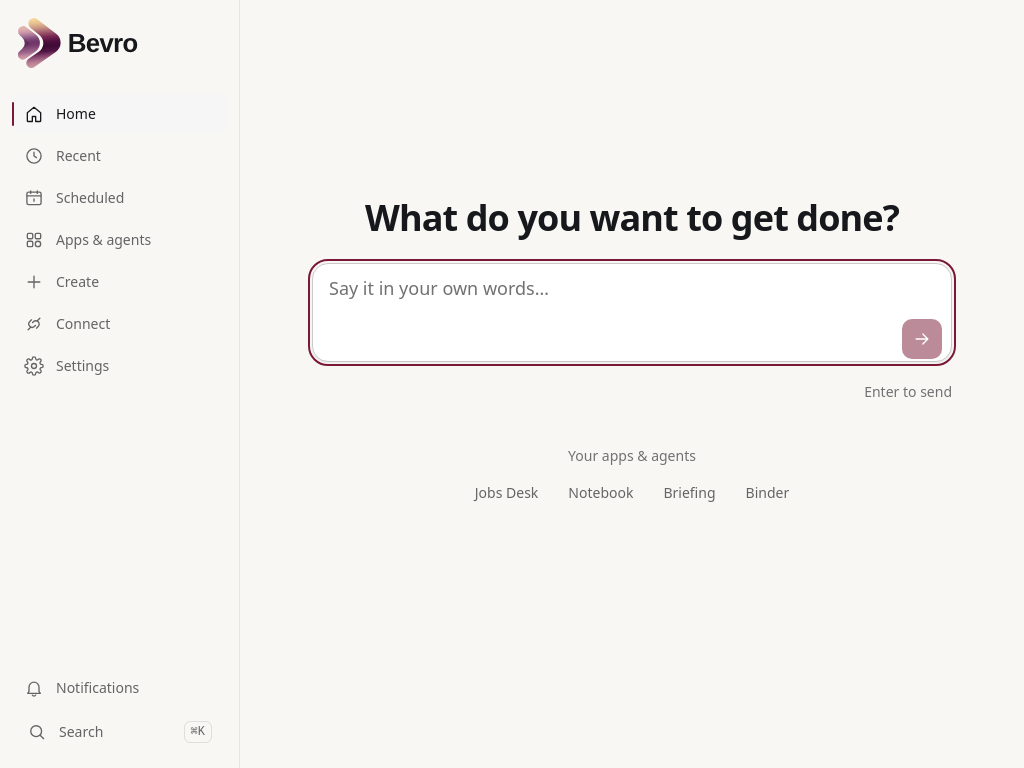
Test: an app Bevro can't drive is the answer: open it, and nothing is started
The width and height of the screenshot is (1024, 768).
Type "Where did I write about pricing?" into the text box named "What do you want to get done?" at (632, 313), box [312, 263, 952, 362]
Then press Enter
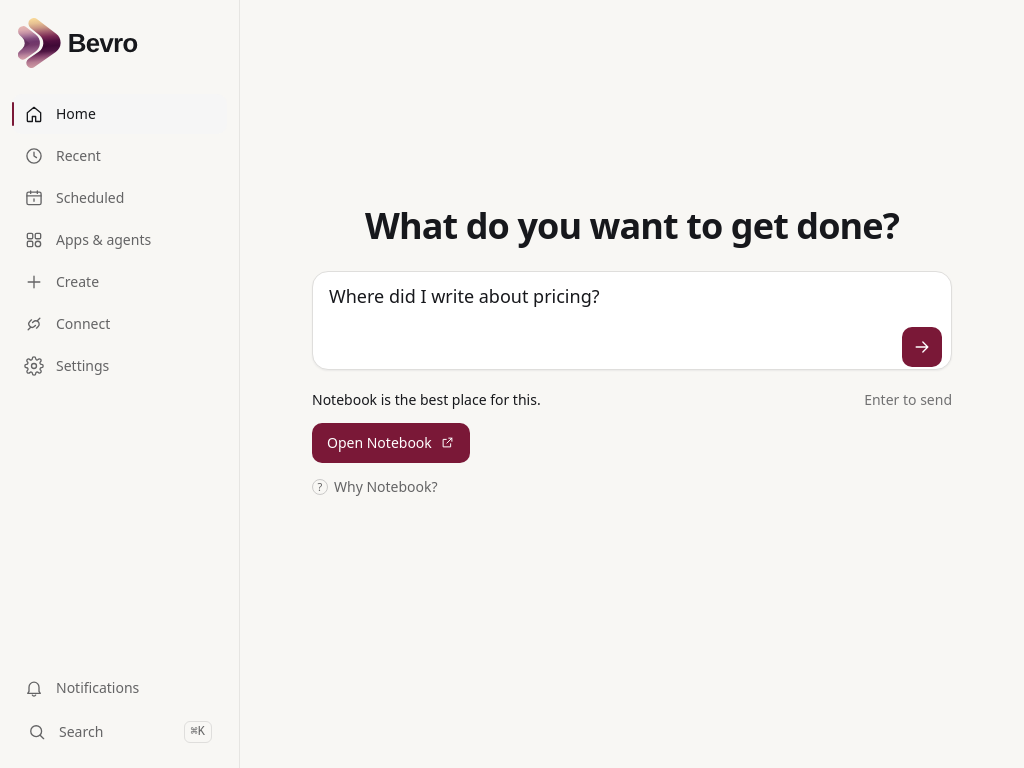
Expected: the text "Keeps what you have noted and learned." is not shown
Click the button "? Why Notebook?" at (375, 487), box [312, 471, 438, 503]
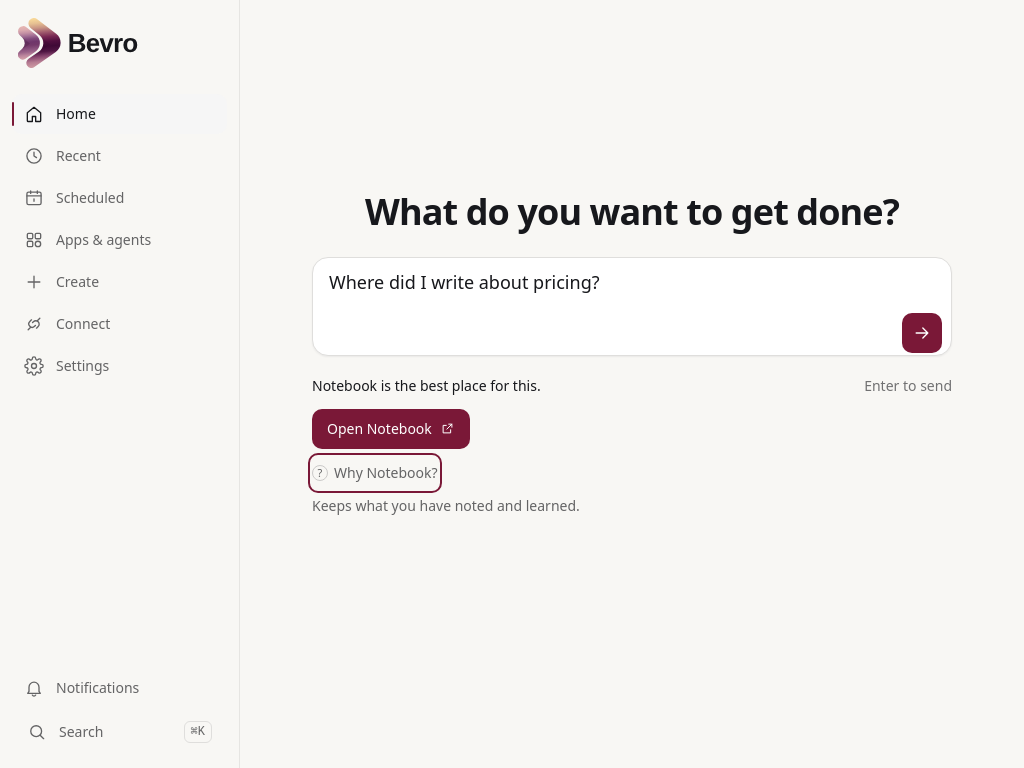
Result: the text "Keeps what you have noted and learned." is shown at [312, 495, 580, 516]
